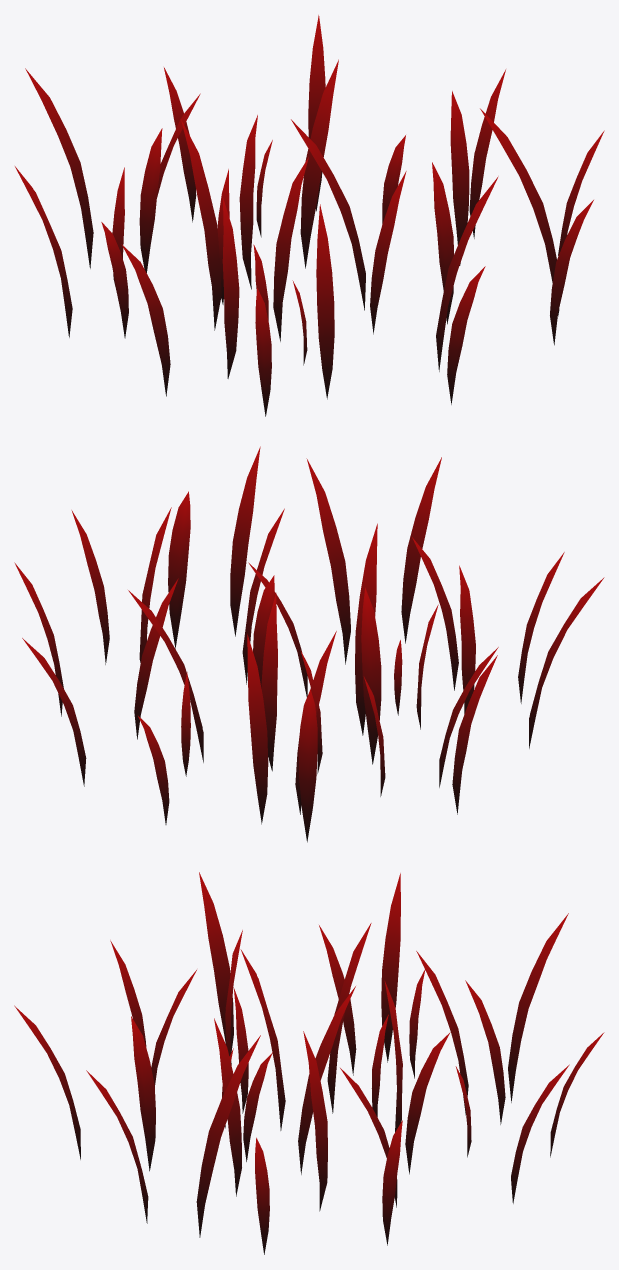
File: GrassScaled.fbx
3 views of the same model, one above another, from view 1: azimuth 30°, elevation 25°; view 2: azimuth 150°, elevation 25°; view 3: azimuth 270°, elevation 25° (orthographic). The views are drawn at different scales.
Visible parts, largest first — view 1: Grass; view 2: Grass; view 3: Grass.
Boxes of the visible parts, left/top/right/bottom form: Grass: left=15, top=15, right=604, bottom=416; Grass: left=14, top=446, right=604, bottom=842; Grass: left=14, top=872, right=604, bottom=1254.
Bounding box in the file's own units: 1.69 × 0.6366 × 1.8.
